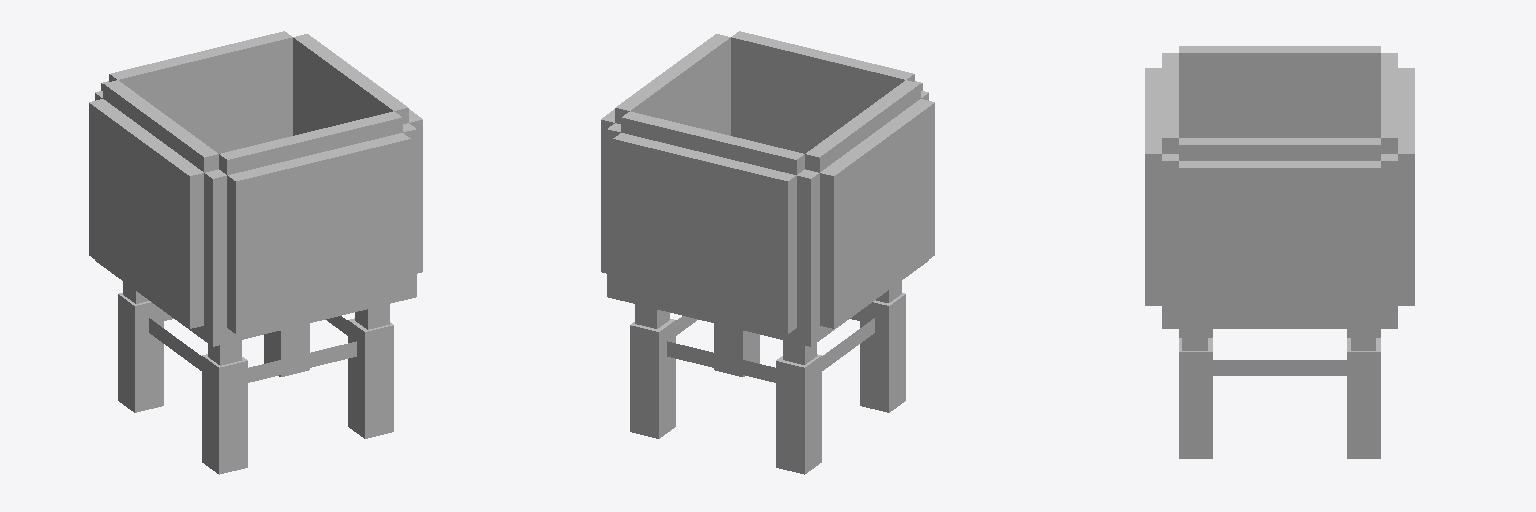
File: iron_cauldron.obj
3 views of the same model, side by side, from view 1: azimuth 30°, elevation 25°; view 2: azimuth 150°, elevation 25°; view 3: azimuth 270°, elevation 25° (orthographic).
Visible parts, largest first — view 1: cube; view 2: cube; view 3: cube.
Part boxes in pixels (bbox=[...]): cube: bbox=[89, 31, 422, 474]; cube: bbox=[601, 31, 934, 474]; cube: bbox=[1145, 46, 1414, 458].
Size of the model in its own units: 1 by 1.31 by 1.